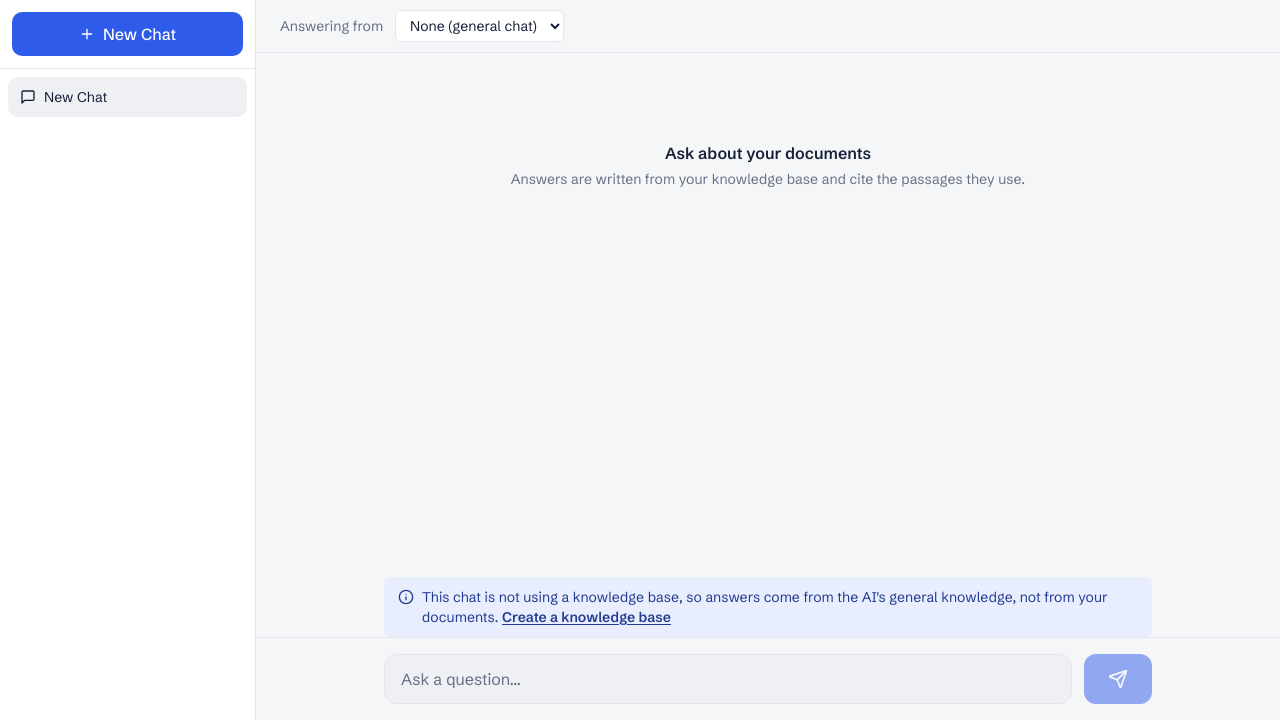
Test: ChatPage › shows why there is no answer when the provider fails, instead of staying silent
This screenshot has width=1280, height=720.
Type "How long?" into the field named "Your question" at (728, 679), box [384,654,1072,704]
Then press Enter
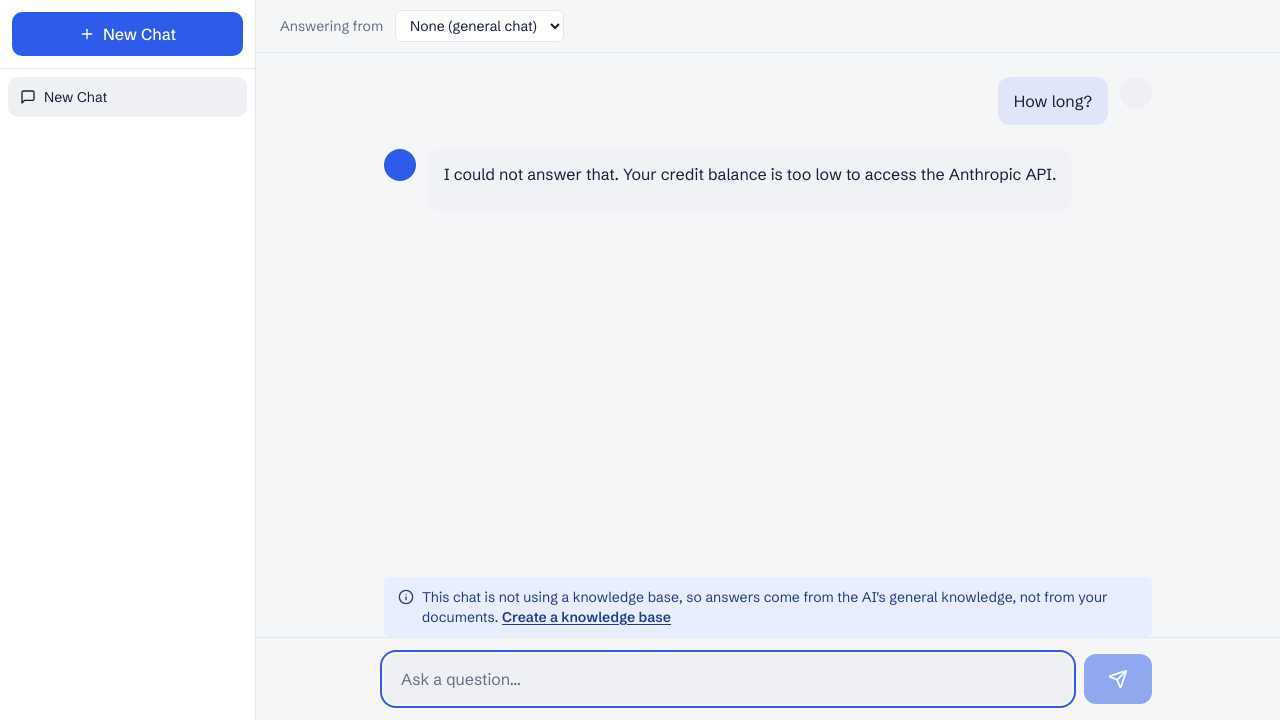
Check: the text "credit balance is too low" is shown, box [444,164,1056,184]
